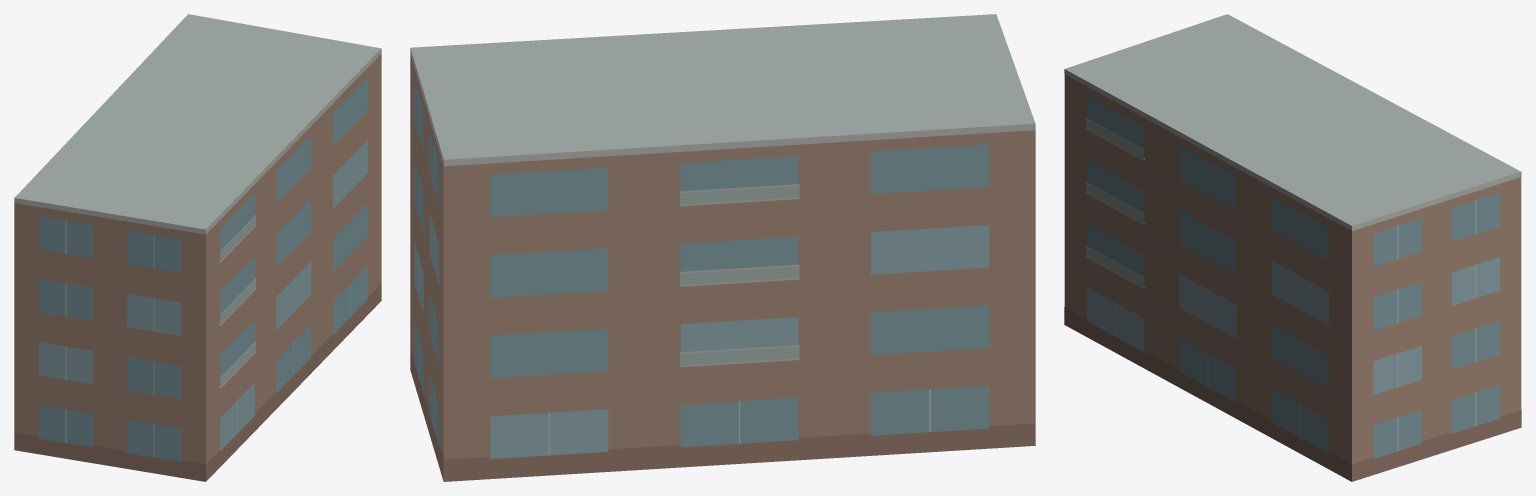
Rendered from survey-upis-32912141.glb.
3 renders of one model, left to right at view 1: azimuth 30°, elevation 25°; view 2: azimuth 150°, elevation 25°; view 3: azimuth 270°, elevation 25°, orthographic. The views are drawn at different scales.
Parts seen in each view (by area): view 1: survey-upis-32912141.tmp; view 2: survey-upis-32912141.tmp; view 3: survey-upis-32912141.tmp.
Boxes of the visible parts, x1,y1,x2,y2 form: survey-upis-32912141.tmp: (14, 14, 381, 481); survey-upis-32912141.tmp: (410, 14, 1035, 481); survey-upis-32912141.tmp: (1064, 14, 1521, 481).
Size of the model in its own units: 21.51 by 12.1 by 19.59.
